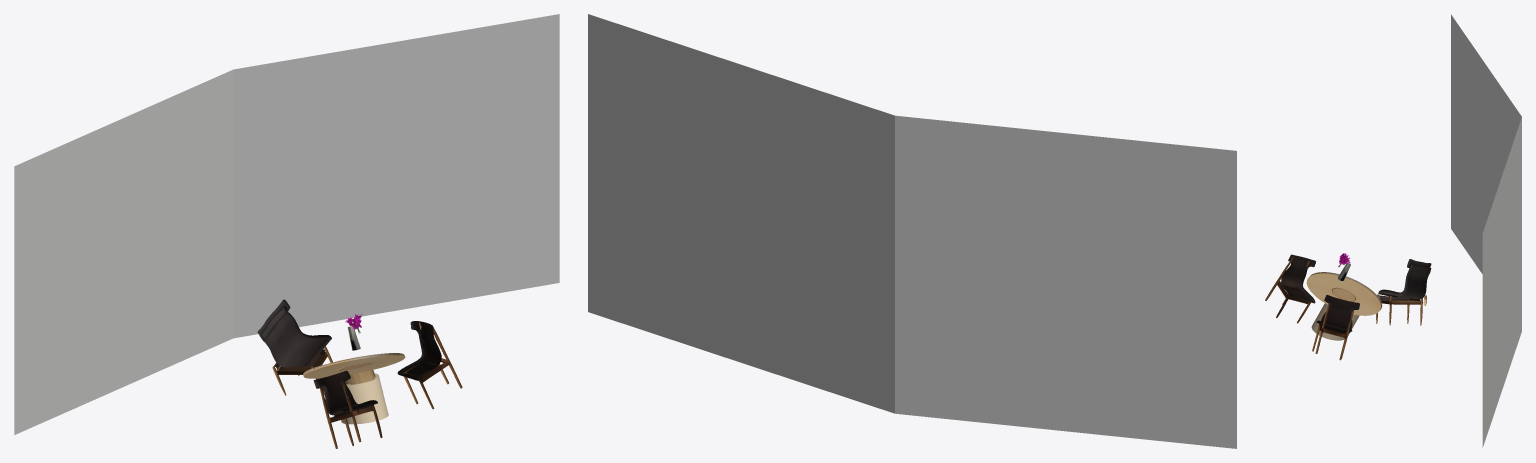
File: viga.glb
3 views of the same model, side by side, from view 1: azimuth 30°, elevation 25°; view 2: azimuth 150°, elevation 25°; view 3: azimuth 270°, elevation 25° (orthographic). The views are drawn at different scales.
Parts seen in each view (by area): view 1: Wall_R, Wall_L, chair_leather_upholstery_mesh, brown_leather_chair_mesh, wooden_dining_chair_mesh, round_table_top_mesh, cylindrical_table_base_mesh, wooden_chair_leg_mesh; view 2: Wall_L, Wall_R; view 3: Wall_L, Wall_R, round_table_top_mesh, brown_leather_chair_mesh, wooden_dining_chair_mesh, chair_leather_upholstery_mesh, wooden_chair_leg_mesh, cylindrical_table_base_mesh.
Boxes of the visible parts, <box> form: Wall_R: <box>233,14,559,338</box>; Wall_L: <box>14,69,233,434</box>; chair_leather_upholstery_mesh: <box>257,299,331,367</box>; brown_leather_chair_mesh: <box>313,370,382,448</box>; wooden_dining_chair_mesh: <box>397,321,462,409</box>; round_table_top_mesh: <box>303,353,405,385</box>; cylindrical_table_base_mesh: <box>341,373,388,424</box>; wooden_chair_leg_mesh: <box>272,346,332,395</box>; Wall_L: <box>895,115,1236,448</box>; Wall_R: <box>588,14,894,413</box>; Wall_L: <box>1451,14,1521,273</box>; Wall_R: <box>1482,117,1521,447</box>; round_table_top_mesh: <box>1306,272,1382,315</box>; brown_leather_chair_mesh: <box>1265,254,1315,323</box>; wooden_dining_chair_mesh: <box>1312,295,1359,360</box>; chair_leather_upholstery_mesh: <box>1378,259,1431,299</box>; wooden_chair_leg_mesh: <box>1376,294,1422,325</box>; cylindrical_table_base_mesh: <box>1311,303,1359,340</box>.
Size of what is drawn, in the model's own units: 6.6 by 3 by 3.25.
Materials: 10 (8 with a texture image).
